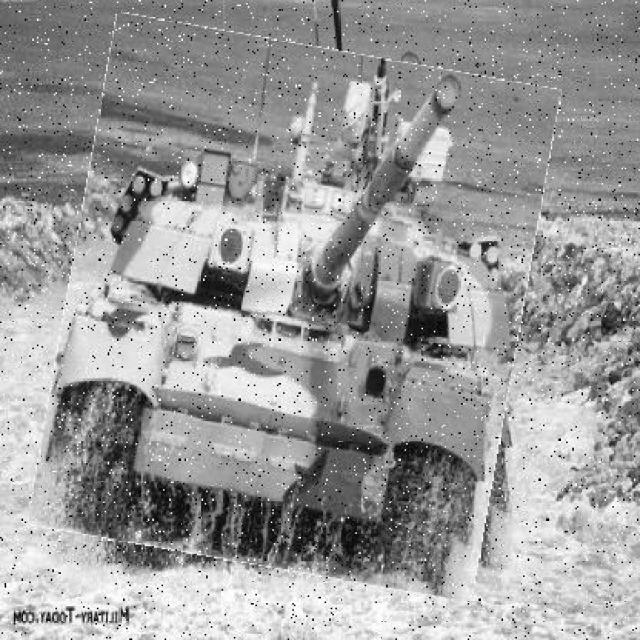Tank: (50, 32, 541, 586)
